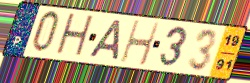0: (30, 9, 63, 57)
3: (188, 28, 220, 73), (158, 25, 189, 69)
A: (86, 19, 124, 63)
H: (53, 12, 96, 61), (119, 19, 161, 67)
